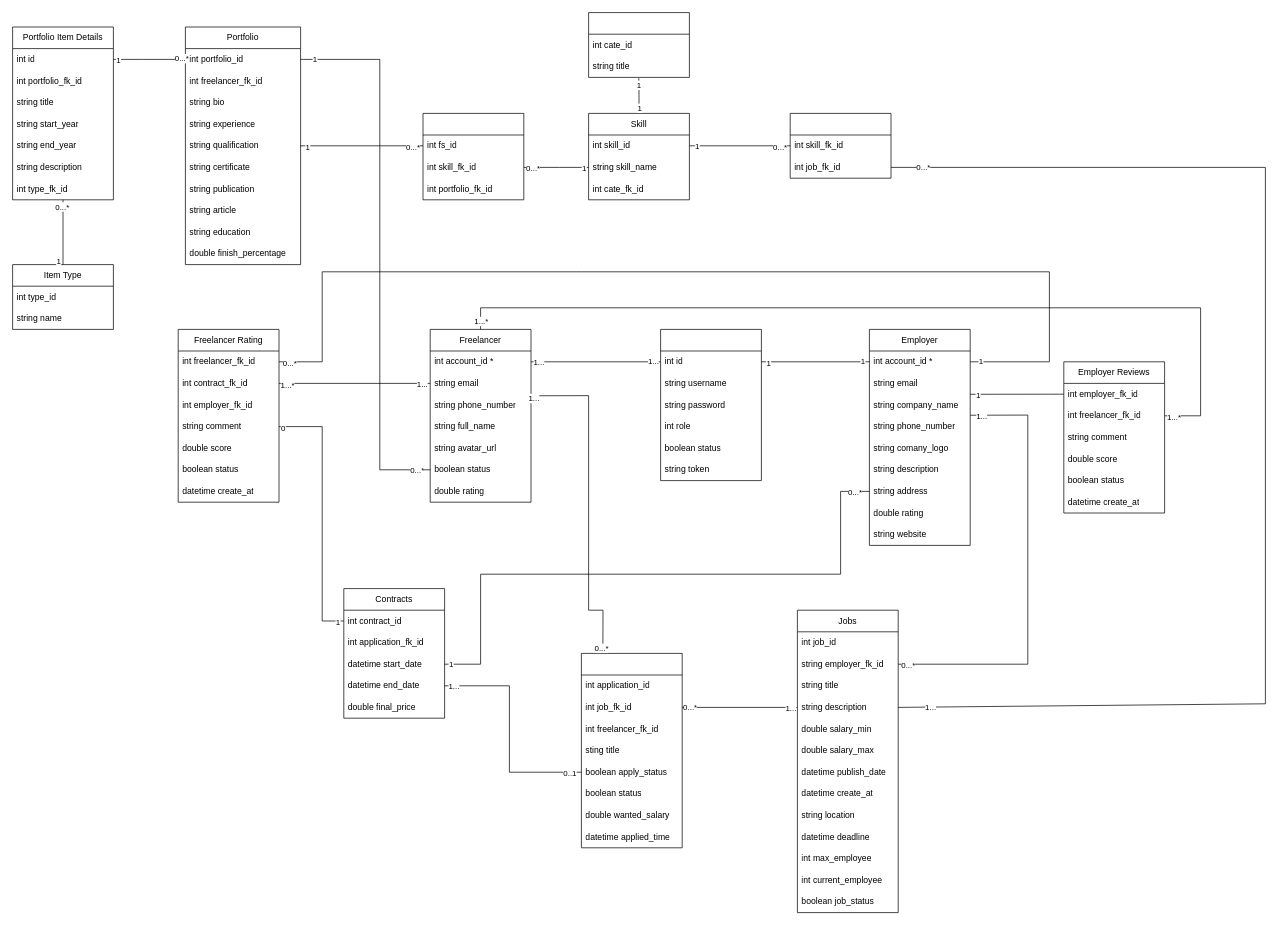
The diagram is 1279 pixels wide and 925 high, and some of its shapes have lost their labels. Here are the shapes that lost their labels. From the top down, the box of each, then its label:
(588, 12, 689, 77): Skill Categories
(422, 113, 524, 200): Freelancer Skills
(789, 113, 891, 178): Job Requirement Skills
(660, 329, 761, 481): Account
(581, 653, 682, 848): Applications
